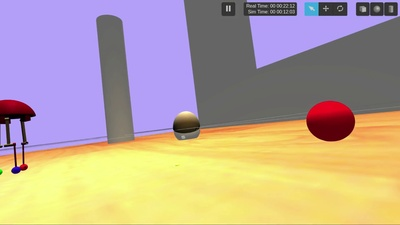mira_robot: (173, 111, 200, 141)
